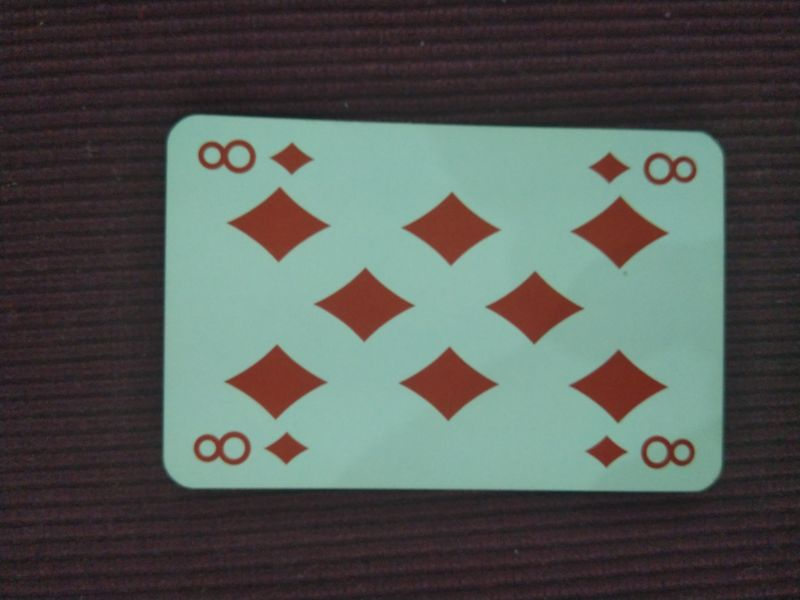8d: (581, 429, 704, 478), (193, 133, 321, 179), (189, 424, 312, 471), (584, 143, 702, 191)
